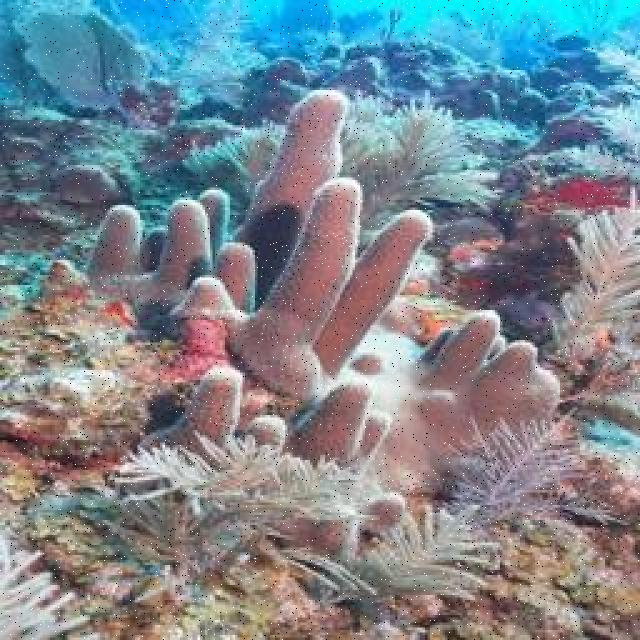fish: (39, 164, 124, 203)
reefs: (82, 89, 566, 556), (283, 408, 583, 606), (182, 94, 504, 233), (108, 434, 357, 531), (544, 208, 638, 363)
